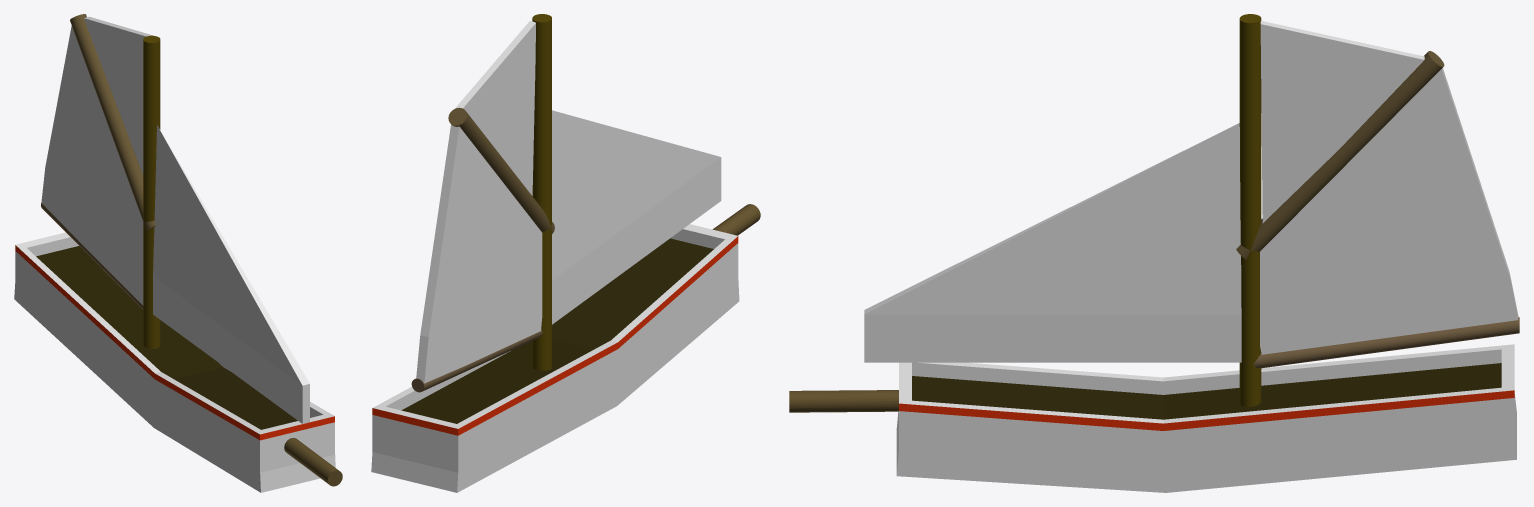
Rendered from Boat1.fbx.
3 renders of one model, left to right at view 1: azimuth 30°, elevation 25°; view 2: azimuth 150°, elevation 25°; view 3: azimuth 270°, elevation 25°, orthographic. The views are drawn at different scales.
Parts seen in each view (by area): view 1: Boat, Sail1, Sail2, Sail3, TallPole, TallPole2, Cylinder.002, Cylinder.003; view 2: Boat, Sail1, Sail2, Sail3, TallPole, TallPole2, Cylinder.003, Cylinder.002; view 3: Boat, Sail1, Sail2, Sail3, TallPole, TallPole2, Cylinder.003, Cylinder.002.
Part boxes in pixels (x1=…): Boat: x1=14, y1=232, x2=335, y2=492; Sail1: x1=153, y1=125, x2=309, y2=423; Sail2: x1=41, y1=26, x2=143, y2=305; Sail3: x1=84, y1=16, x2=154, y2=174; TallPole: x1=143, y1=35, x2=160, y2=348; TallPole2: x1=70, y1=14, x2=155, y2=230; Cylinder.002: x1=284, y1=438, x2=342, y2=486; Cylinder.003: x1=41, y1=203, x2=143, y2=309; Boat: x1=371, y1=224, x2=739, y2=492; Sail1: x1=552, y1=110, x2=721, y2=324; Sail2: x1=416, y1=124, x2=542, y2=383; Sail3: x1=455, y1=21, x2=535, y2=195; TallPole: x1=532, y1=14, x2=551, y2=370; TallPole2: x1=448, y1=107, x2=554, y2=233; Cylinder.003: x1=411, y1=329, x2=542, y2=392; Cylinder.002: x1=712, y1=204, x2=760, y2=235; Boat: x1=896, y1=344, x2=1516, y2=492; Sail1: x1=864, y1=123, x2=1241, y2=362; Sail2: x1=1260, y1=68, x2=1518, y2=354; Sail3: x1=1260, y1=21, x2=1424, y2=223; TallPole: x1=1239, y1=14, x2=1261, y2=406; TallPole2: x1=1236, y1=51, x2=1444, y2=259; Cylinder.003: x1=1254, y1=317, x2=1519, y2=368; Cylinder.002: x1=789, y1=390, x2=898, y2=412.
Bounding box in the file's own units: 4.09 × 18.56 × 27.44.
